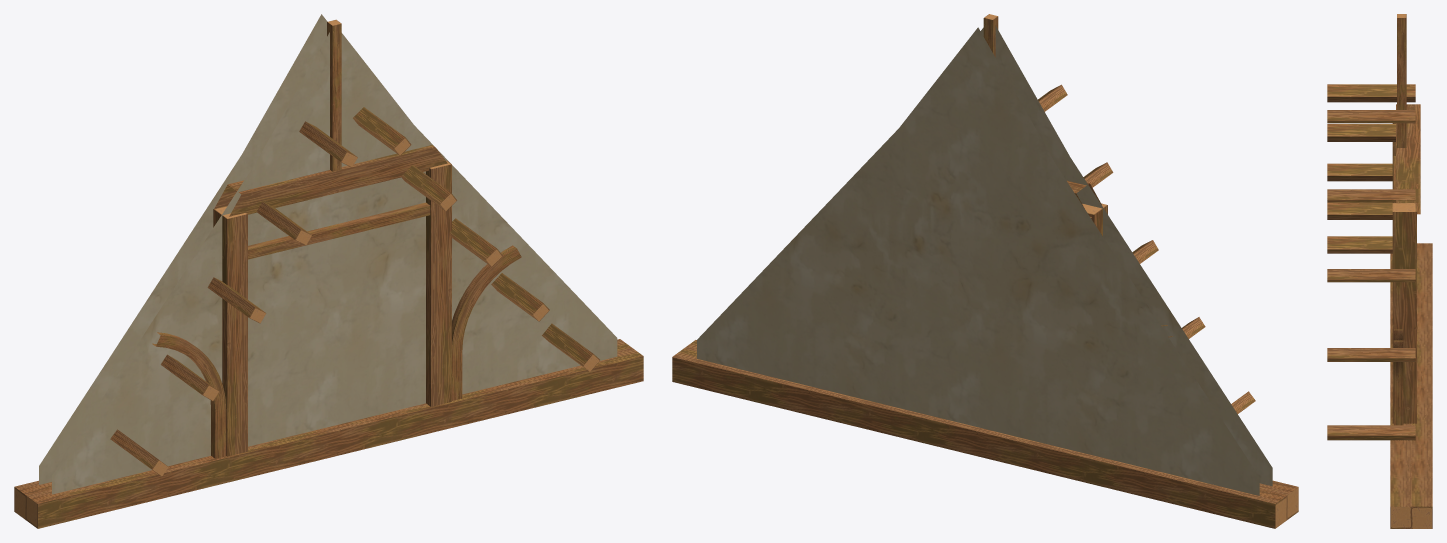
Rendered from Roof_Front_Brick6.gltf.
The picture shows the model from 3 angles, left to right: view 1: azimuth 30°, elevation 25°; view 2: azimuth 150°, elevation 25°; view 3: azimuth 270°, elevation 25°; orthographic projection. The views are drawn at different scales.
Parts seen in each view (by area): view 1: Roof_Front_Brick6; view 2: Roof_Front_Brick6; view 3: Roof_Front_Brick6.
Part boxes in pixels (x1=…): Roof_Front_Brick6: x1=14, y1=14, x2=643, y2=528; Roof_Front_Brick6: x1=672, y1=14, x2=1298, y2=528; Roof_Front_Brick6: x1=1327, y1=14, x2=1432, y2=528.
Size of the model in its own units: 6.69 by 4.52 by 1.13.
Materials: 2 (2 with a texture image).
